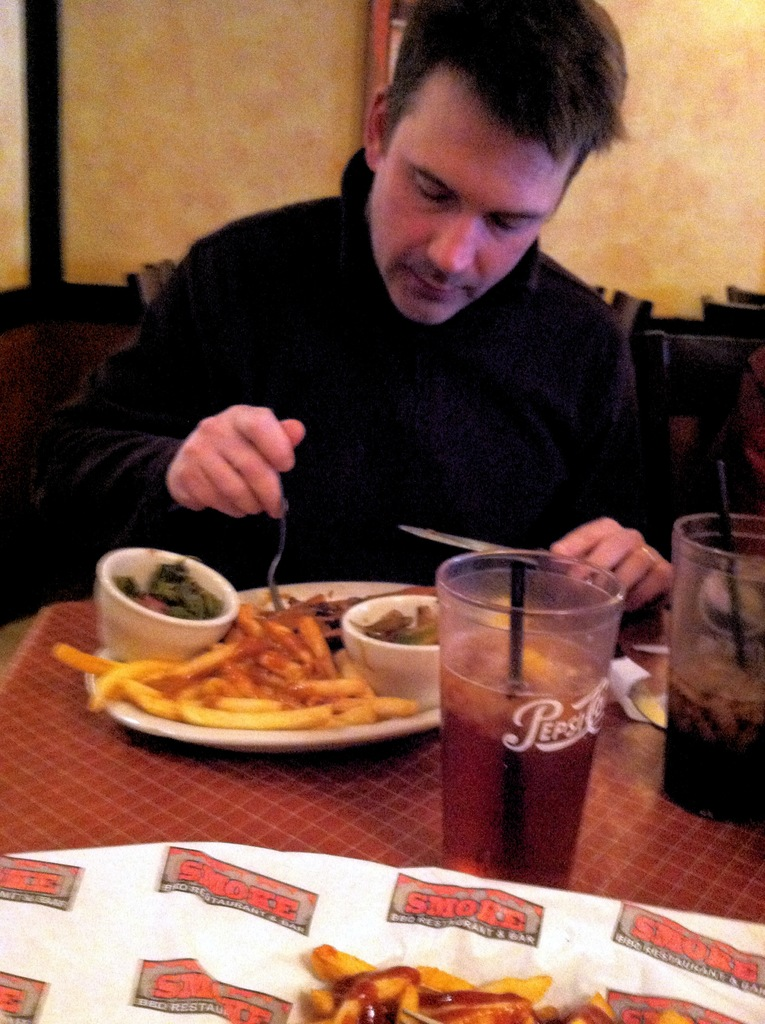French fries: (97, 608, 427, 741), (308, 948, 686, 1023)
